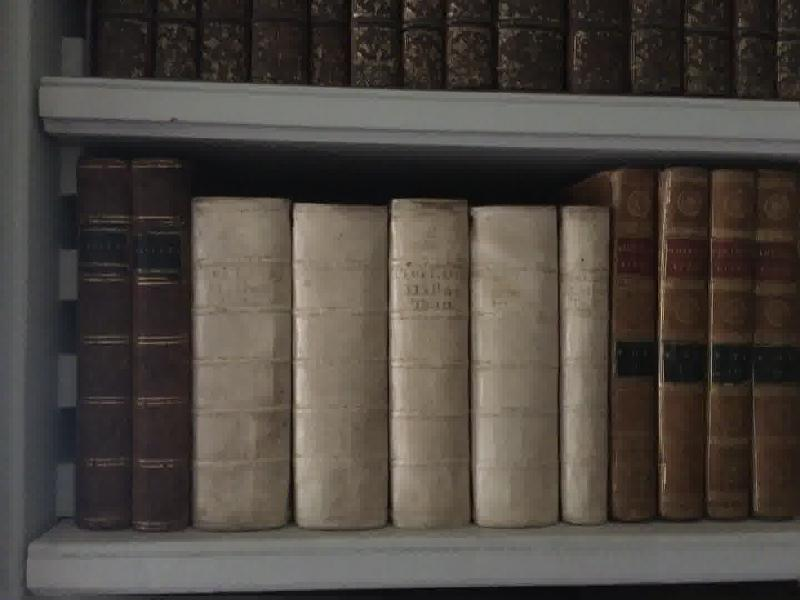Kk4-1_2: (71, 152, 190, 533)
Kk4-3_7: (189, 187, 613, 535)
Kk4-8_13: (606, 167, 797, 525)
